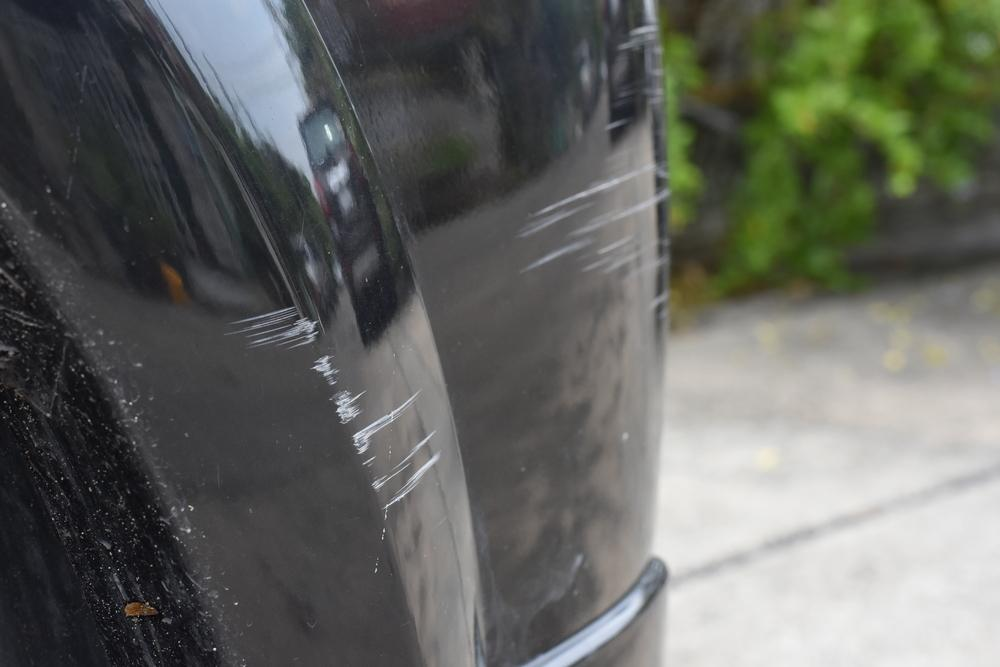scratch: (219, 304, 444, 514), (518, 25, 669, 325)
